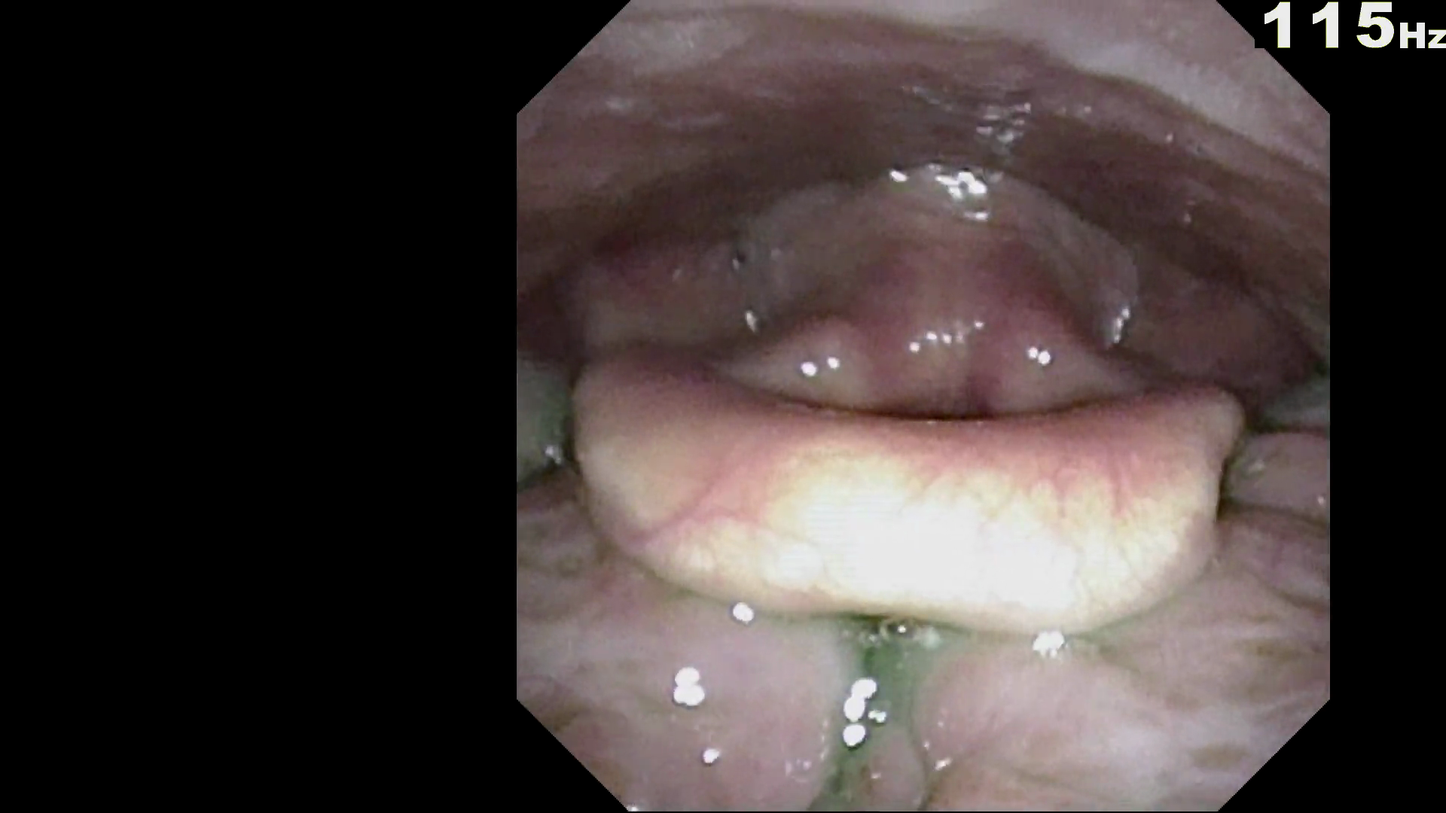epiglottis: (546, 342, 1281, 627)
trachea: (859, 355, 1045, 447), (909, 345, 1029, 478)
